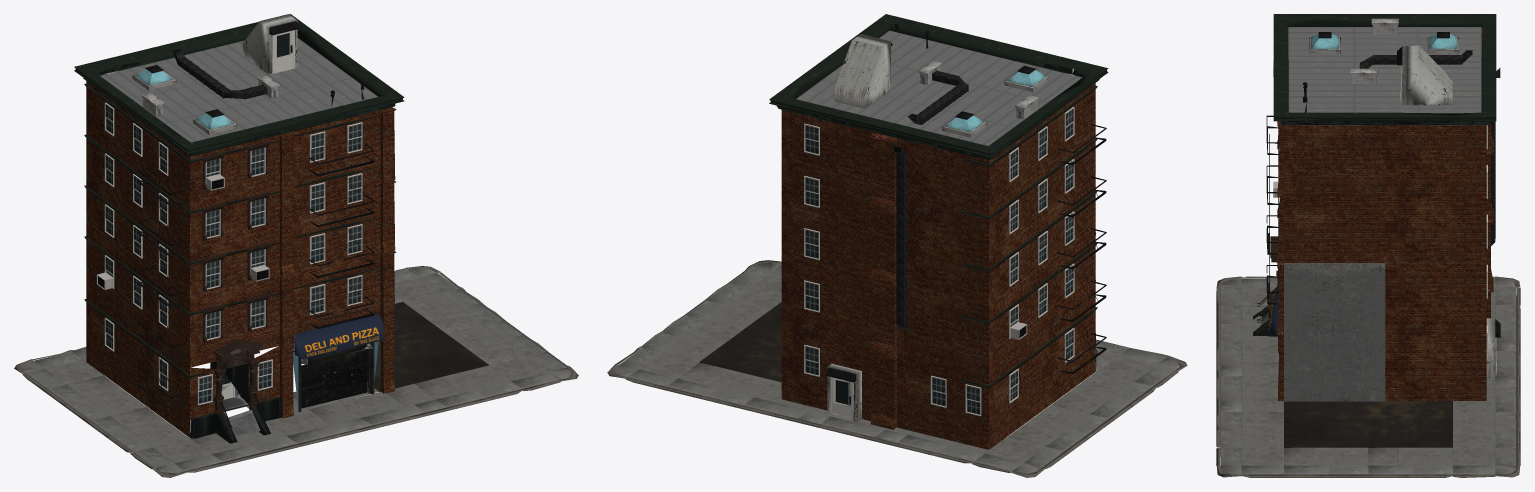
Rendered from chung-cu.glb.
3 views of the same model, side by side, from view 1: azimuth 30°, elevation 25°; view 2: azimuth 150°, elevation 25°; view 3: azimuth 270°, elevation 25° (orthographic). The views are drawn at different scales.
Visible parts, largest first — view 1: brick.4_4, concrete.7_7, other_bits.6_6, wall_roof_rollup.2_2, cornices_and_trim.5_5, asphalt.3_3; view 2: brick.4_4, concrete.7_7, other_bits.6_6, cornices_and_trim.5_5, wall_roof_rollup.2_2, asphalt.3_3; view 3: brick.4_4, concrete.7_7, wall_roof_rollup.2_2, other_bits.6_6, cornices_and_trim.5_5, asphalt.3_3.
Part boxes in pixels (box(x1,y1,x2,y2)): brick.4_4: box(86, 81, 396, 443); concrete.7_7: box(14, 266, 578, 477); other_bits.6_6: box(96, 14, 384, 436); wall_roof_rollup.2_2: box(100, 38, 380, 412); cornices_and_trim.5_5: box(74, 14, 404, 378); asphalt.3_3: box(334, 302, 488, 391); brick.4_4: box(781, 83, 1097, 449); concrete.7_7: box(607, 260, 1187, 477); other_bits.6_6: box(804, 24, 1106, 422); cornices_and_trim.5_5: box(769, 14, 1108, 388); wall_roof_rollup.2_2: box(796, 30, 1082, 145); asphalt.3_3: box(699, 302, 781, 382); brick.4_4: box(1253, 29, 1493, 400); concrete.7_7: box(1216, 276, 1520, 477); wall_roof_rollup.2_2: box(1284, 27, 1481, 401); other_bits.6_6: box(1257, 18, 1500, 377); cornices_and_trim.5_5: box(1273, 14, 1496, 125); asphalt.3_3: box(1284, 401, 1452, 447).
Bounding box in the file's own units: 1 × 0.7627 × 0.6429.
Materials: 6 (6 with a texture image).
